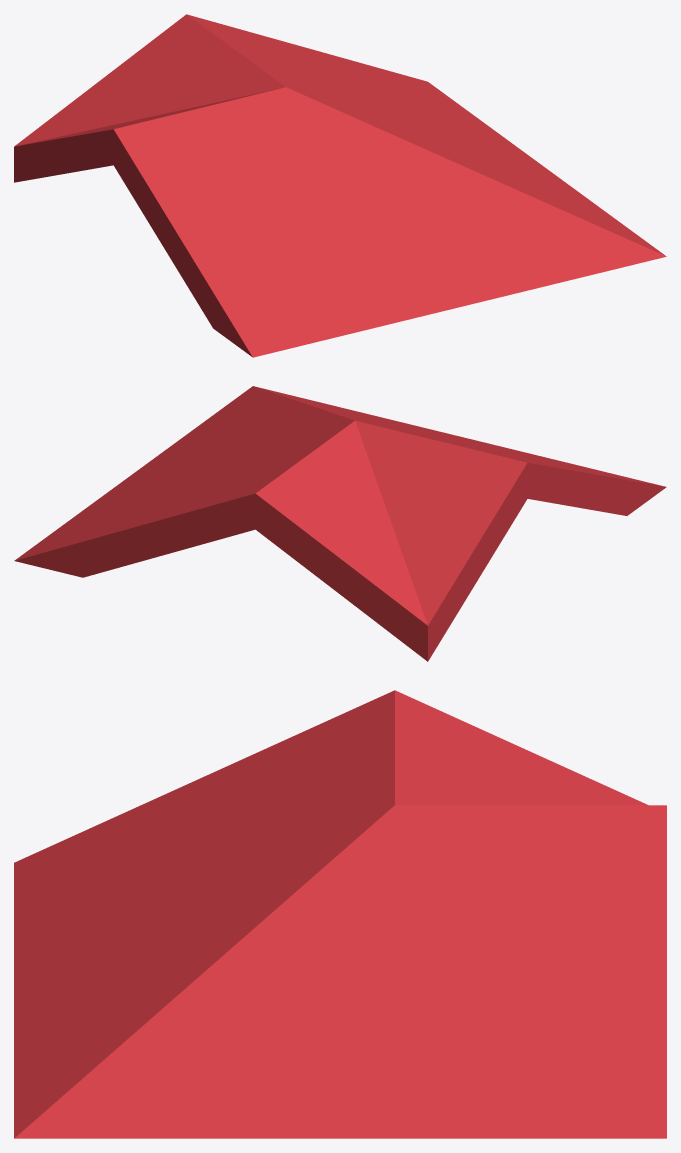
Rendered from roof_small_2_corner.glb.
The picture shows the model from 3 angles, top to bottom: view 1: azimuth 30°, elevation 25°; view 2: azimuth 150°, elevation 25°; view 3: azimuth 270°, elevation 25°; orthographic projection. The views are drawn at different scales.
Visible parts, largest first — view 1: roof_small_2_corner; view 2: roof_small_2_corner; view 3: roof_small_2_corner.
Boxes of the visible parts, <box> form: roof_small_2_corner: <box>14,14,666,357</box>; roof_small_2_corner: <box>14,386,666,661</box>; roof_small_2_corner: <box>14,690,666,1138</box>.
Size of the model in its own units: 1.2 by 0.35 by 1.2.
